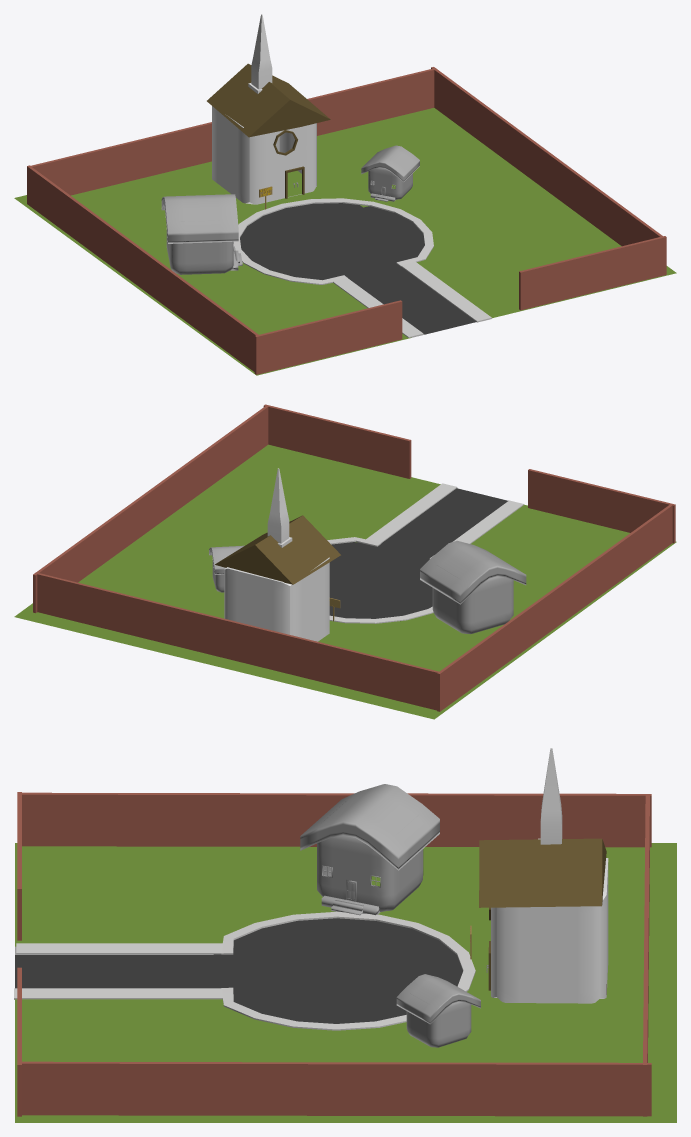
Rendered from OutsideChurch.fbx.
3 views of the same model, one above another, from view 1: azimuth 30°, elevation 25°; view 2: azimuth 150°, elevation 25°; view 3: azimuth 270°, elevation 25° (orthographic). The views are drawn at different scales.
Parts seen in each view (by area): view 1: rightnurbsCube1; view 2: rightnurbsCube1; view 3: rightnurbsCube1.
Part boxes in pixels (<box>): rightnurbsCube1: <box>14,14,676,375</box>; rightnurbsCube1: <box>14,404,676,719</box>; rightnurbsCube1: <box>14,748,676,1122</box>.
Size of the model in its own units: 361 by 139 by 362.
